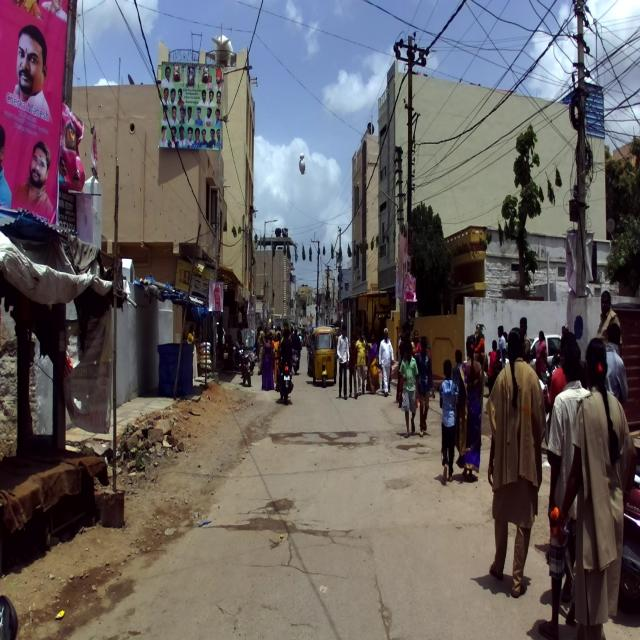autorickshaw: (311, 325, 338, 387)
motorcycle: (274, 345, 294, 405), (233, 339, 253, 386)
